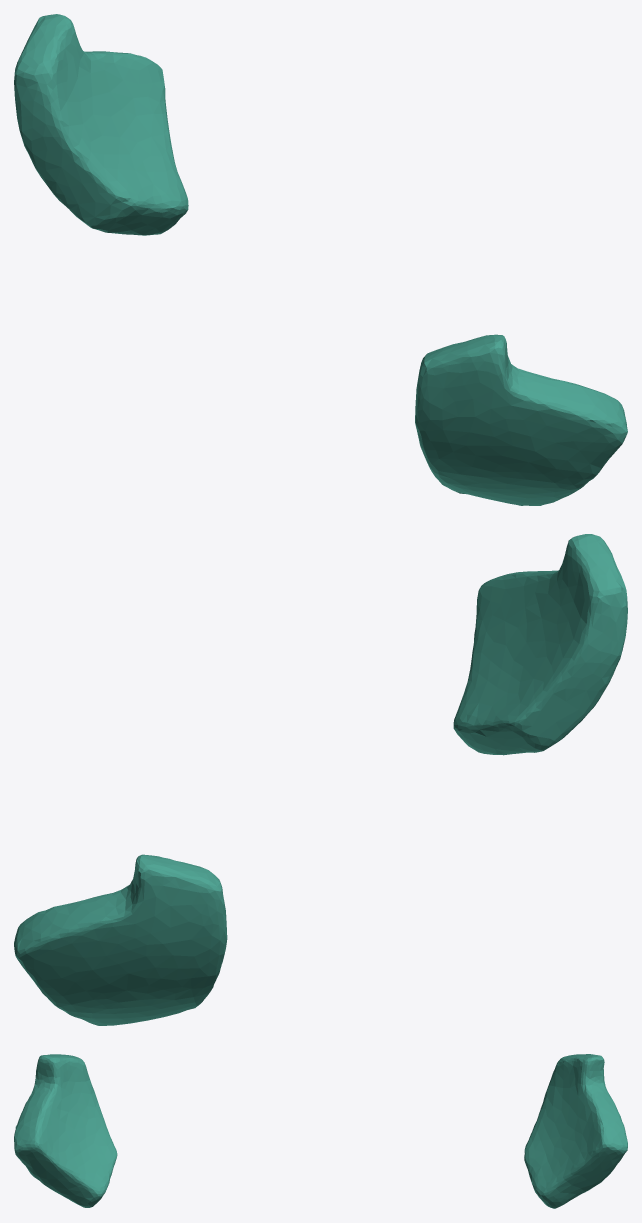
3 views of the same model, one above another, from view 1: azimuth 30°, elevation 25°; view 2: azimuth 150°, elevation 25°; view 3: azimuth 270°, elevation 25° (orthographic). The views are drawn at different scales.
Parts seen in each view (by area): view 1: 1102.obj; view 2: 1102.obj; view 3: 1102.obj.
Part boxes in pixels (left/top/right/bottom): 1102.obj: left=14, top=14, right=627, bottom=505; 1102.obj: left=14, top=534, right=627, bottom=1025; 1102.obj: left=14, top=1054, right=627, bottom=1208.
Bounding box in the file's own units: 1514 × 1729 × 7405.
